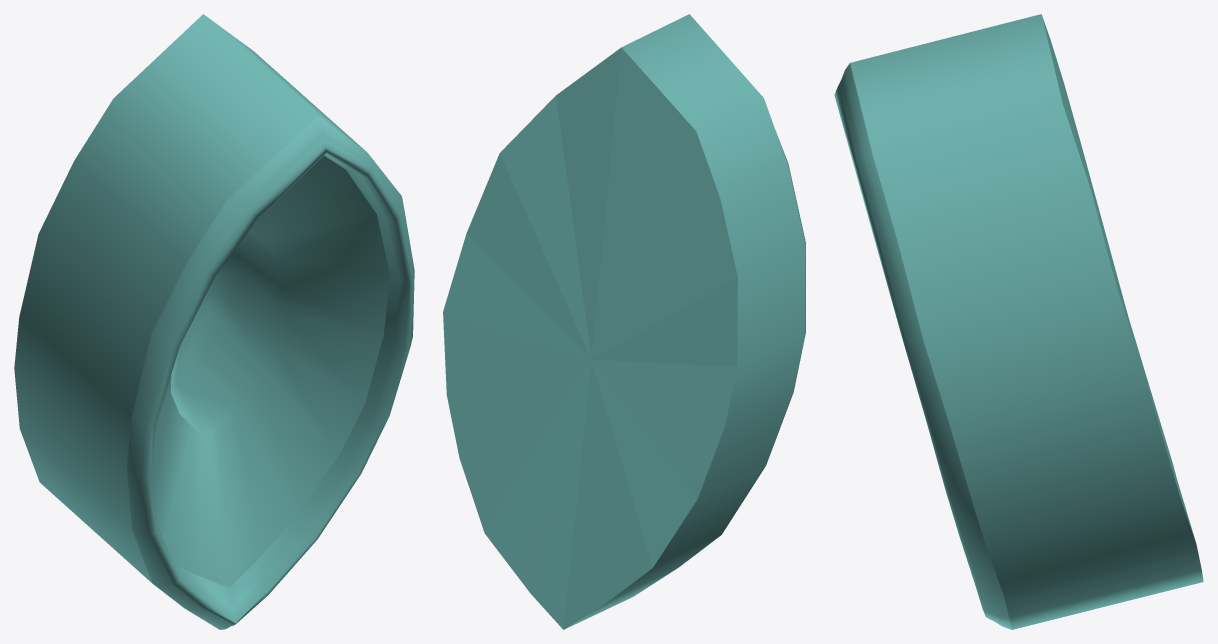
File: BR1_8shapes_Marquise_Classic_Metal.001 3.glb
3 views of the same model, side by side, from view 1: azimuth 30°, elevation 25°; view 2: azimuth 150°, elevation 25°; view 3: azimuth 270°, elevation 25° (orthographic). The views are drawn at different scales.
Visible parts, largest first — view 1: BR1_8shapes_Marquise_Classic_Metal.001; view 2: BR1_8shapes_Marquise_Classic_Metal.001; view 3: BR1_8shapes_Marquise_Classic_Metal.001.
Boxes of the visible parts, bbox=[...] form: BR1_8shapes_Marquise_Classic_Metal.001: bbox=[14, 14, 414, 629]; BR1_8shapes_Marquise_Classic_Metal.001: bbox=[443, 14, 805, 629]; BR1_8shapes_Marquise_Classic_Metal.001: bbox=[834, 14, 1203, 629].
Size of the model in its own units: 0.3877 by 0.7066 by 0.3846.
